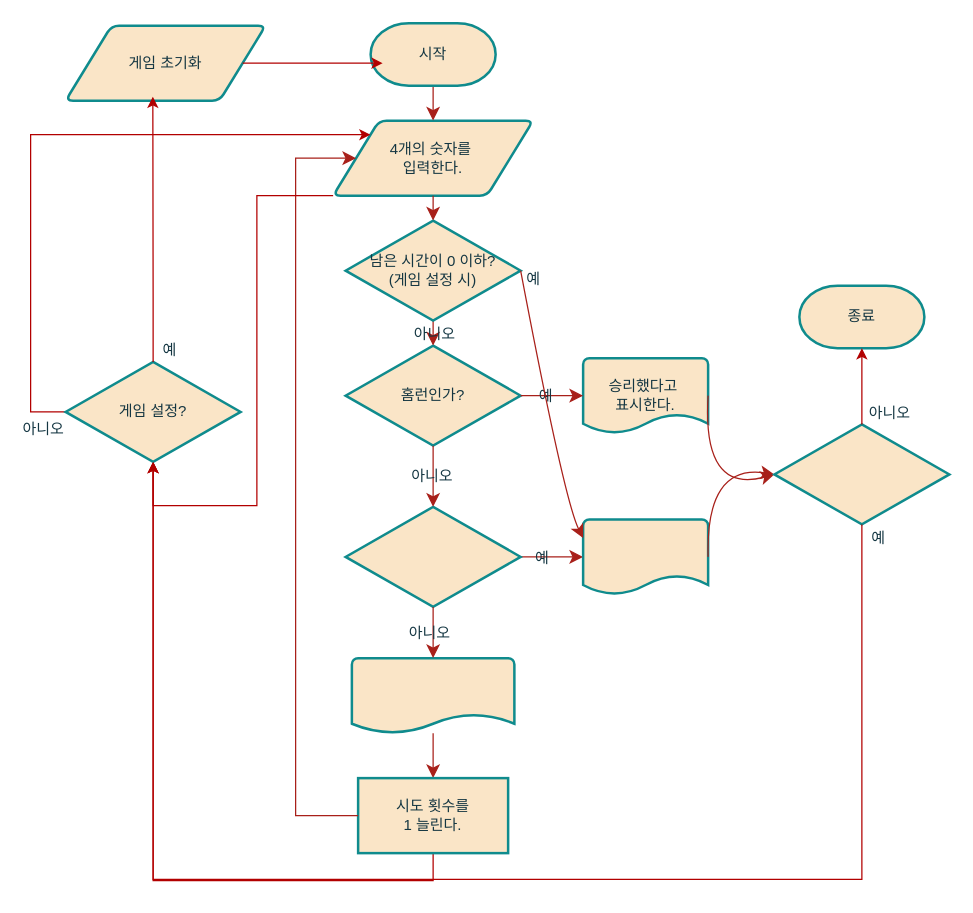
This 973x913 diagram has some shape labels left out. Each missing label, with the centre of its shape:
10번 시도했나? (게임 설정 가능): (x=432, y=556)
다시하기?: (x=861, y=473)
몇 스트라이크, 몇 볼인지 표시한다.: (x=432, y=695)
패배했다고 표시한다.: (x=645, y=556)
